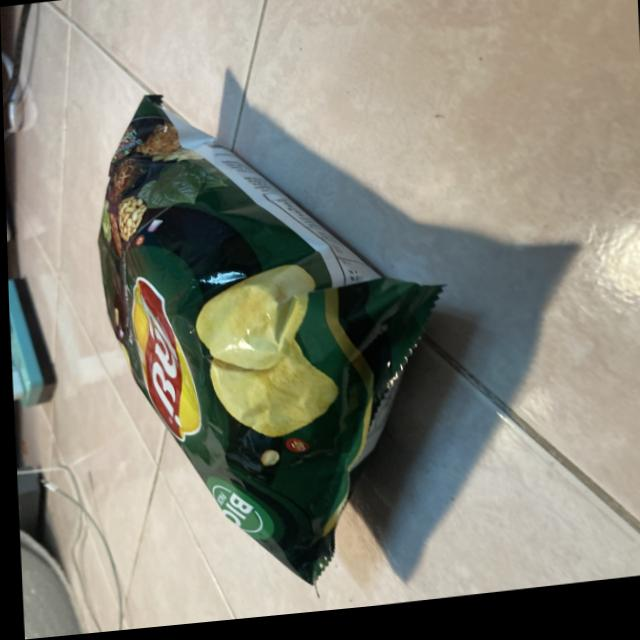Laygreen: (64, 43, 459, 615)
